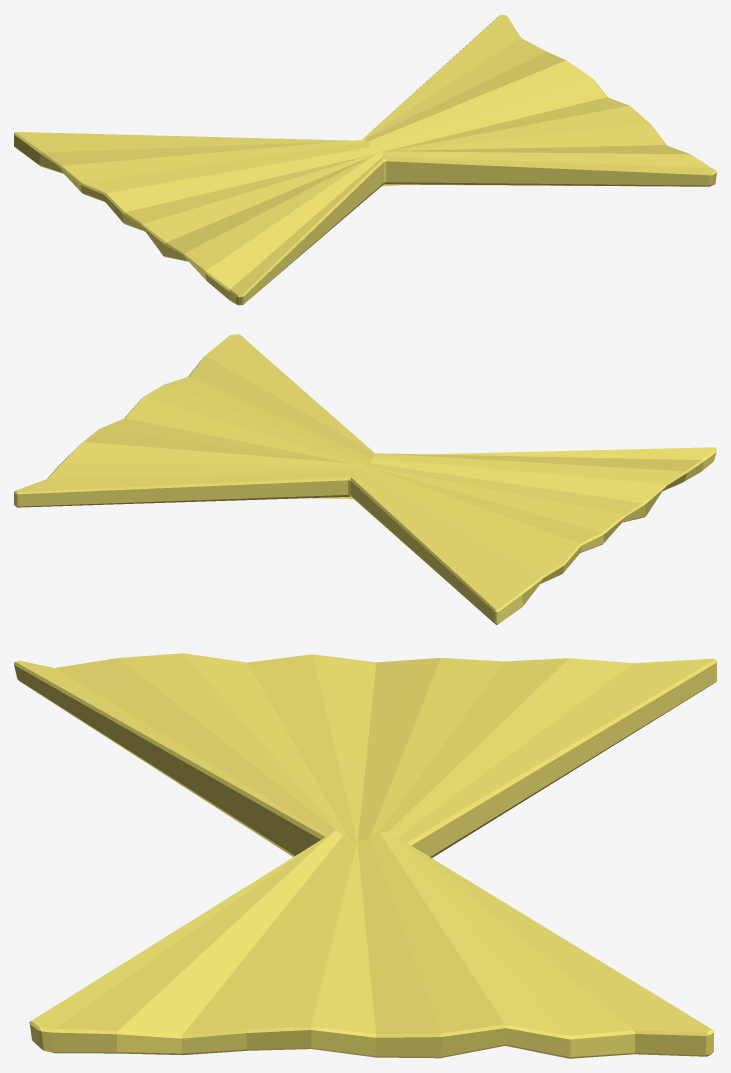
3 views of the same model, one above another, from view 1: azimuth 30°, elevation 25°; view 2: azimuth 150°, elevation 25°; view 3: azimuth 270°, elevation 25° (orthographic). The views are drawn at different scales.
Visible parts, largest first — view 1: Plane.012; view 2: Plane.012; view 3: Plane.012.
Part boxes in pixels (<box>): Plane.012: <box>14,14,716,305</box>; Plane.012: <box>14,334,716,624</box>; Plane.012: <box>14,653,716,1058</box>.
Size of the model in its own units: 2 by 0.1365 by 1.58.
